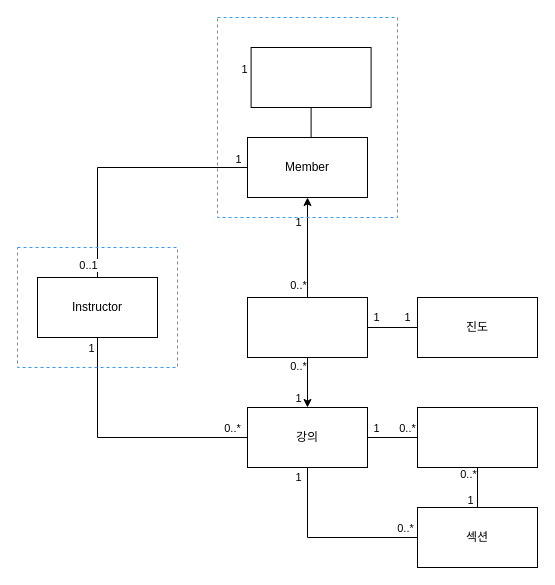
Image size: 555x585. Some labels were removed from this diagram. Each missing label, with the centre of its shape:
"MemberDetail" belongs at pixel 310 77.
"수강" belongs at pixel 307 327.
"수업" belongs at pixel 477 437.
